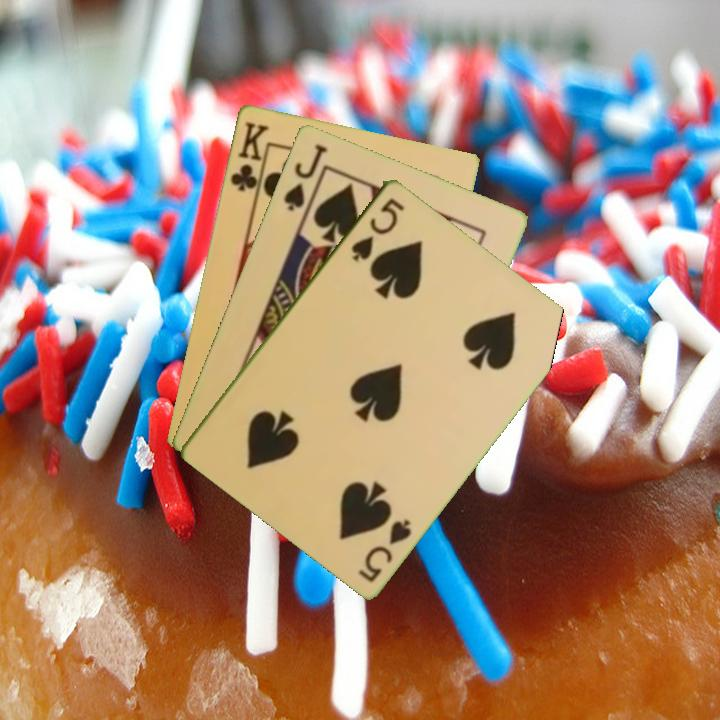5s: (354, 514, 415, 585), (347, 194, 408, 264)
Js: (279, 139, 330, 214)
Kc: (226, 117, 271, 201)
